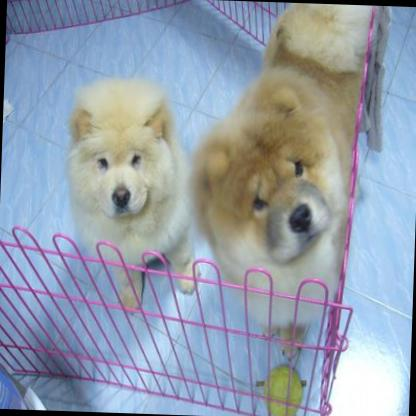chow: (187, 0, 371, 362), (60, 74, 206, 313)
